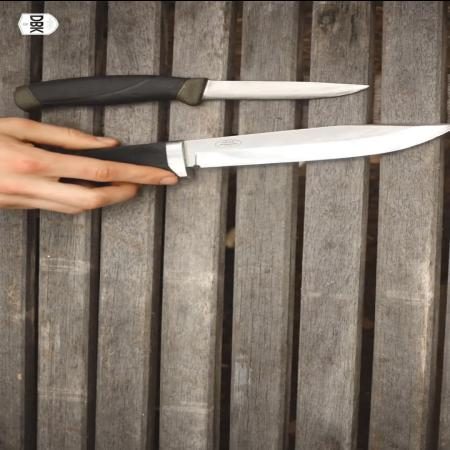long weapon: (48, 116, 448, 216), (153, 66, 382, 108)
